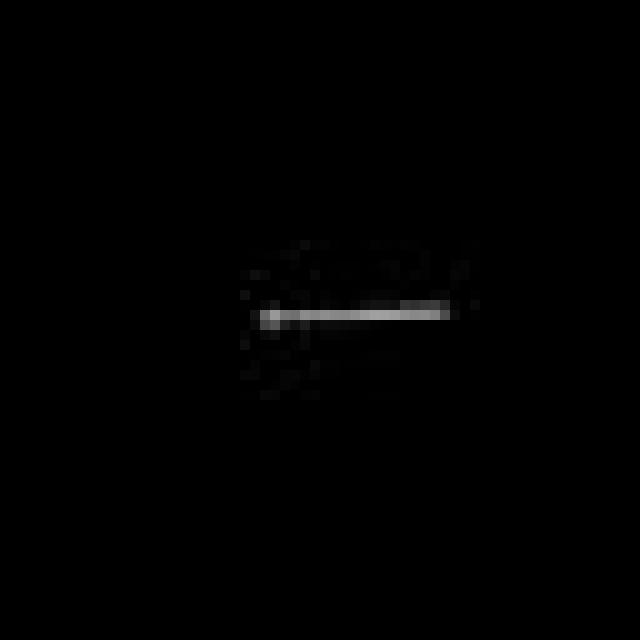1 -one-: (251, 294, 454, 343)
